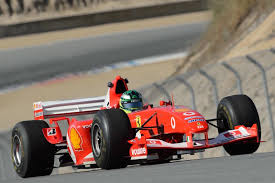f1_car: (7, 70, 266, 183)
